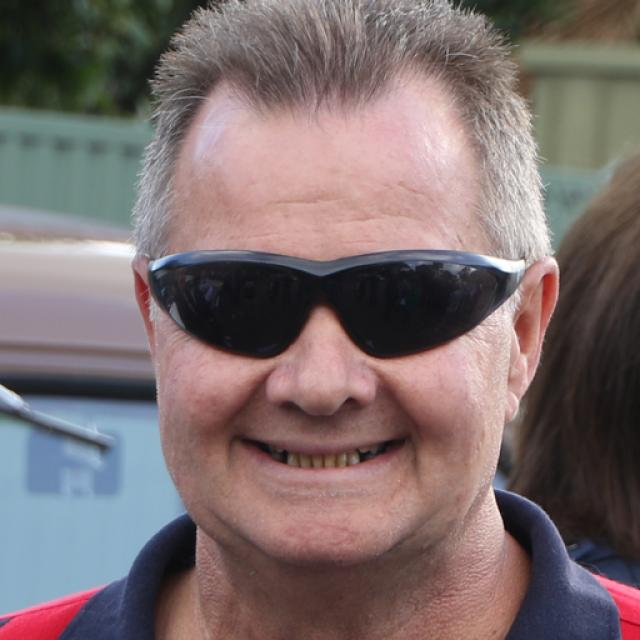Wrinkle: (338, 207, 428, 227), (272, 191, 351, 207), (227, 228, 282, 243)
